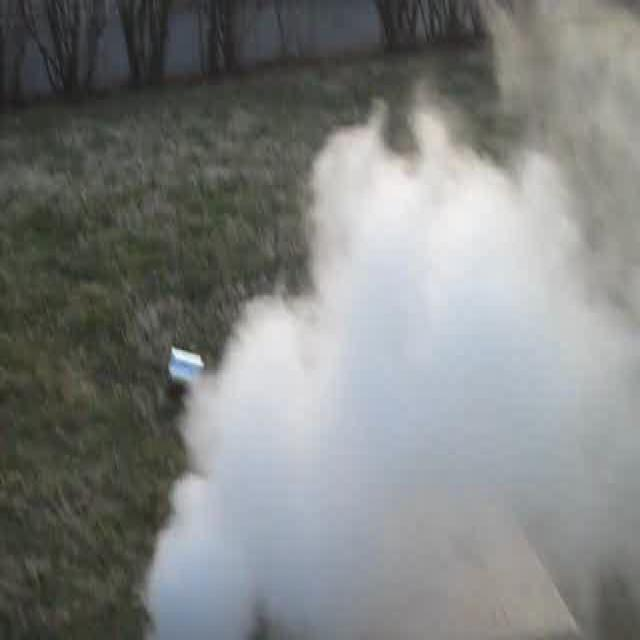Smoke: (154, 136, 636, 640)
